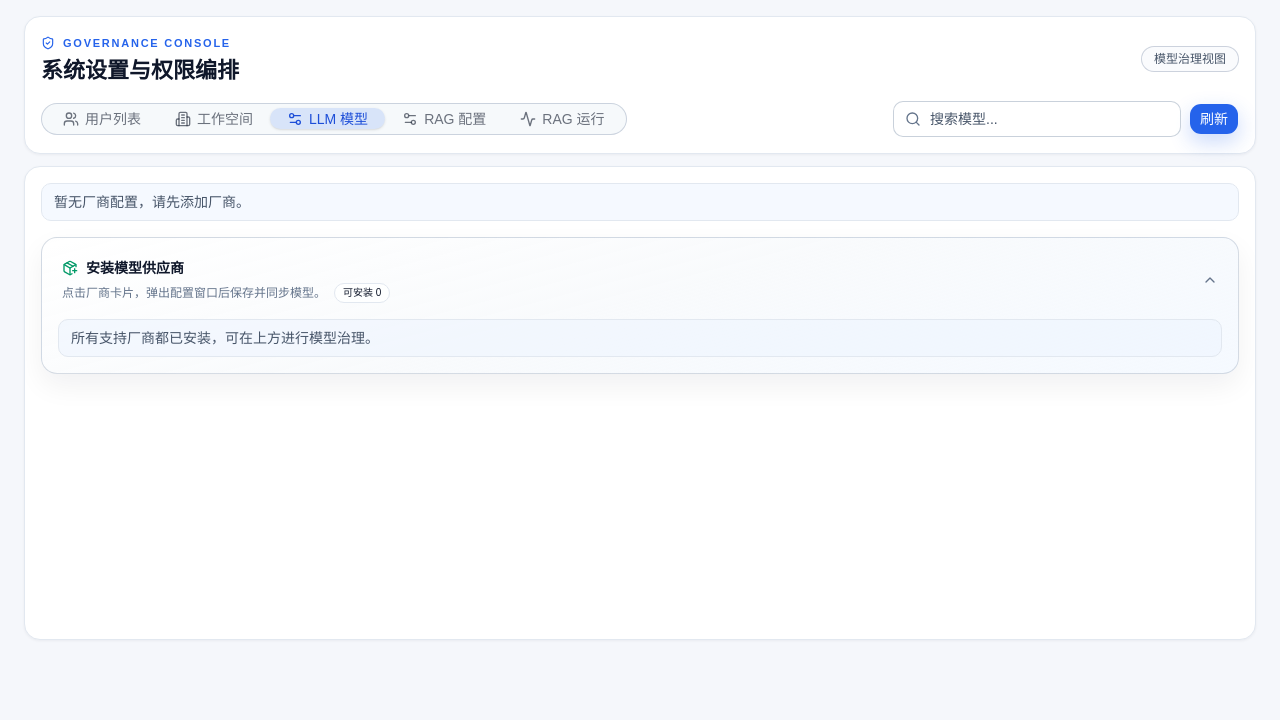
Scenario: SettingsPage governance visibility › shows explicit empty state when foundation data is missing
Expected: the tab "用户列表" is shown, [46, 108, 158, 129]
Click the tab "RAG 运行" at (562, 119), box [503, 108, 622, 129]
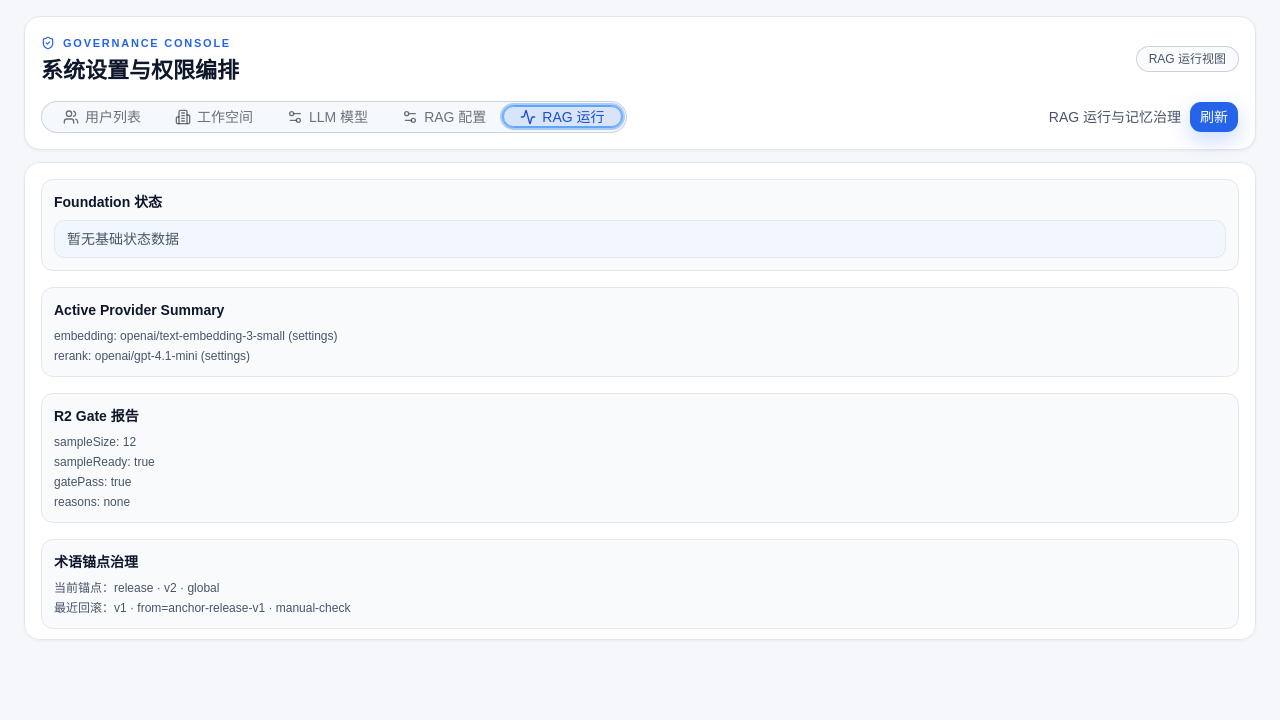
Expected: the text "暂无基础状态数据" is shown, [54, 220, 1226, 258]
